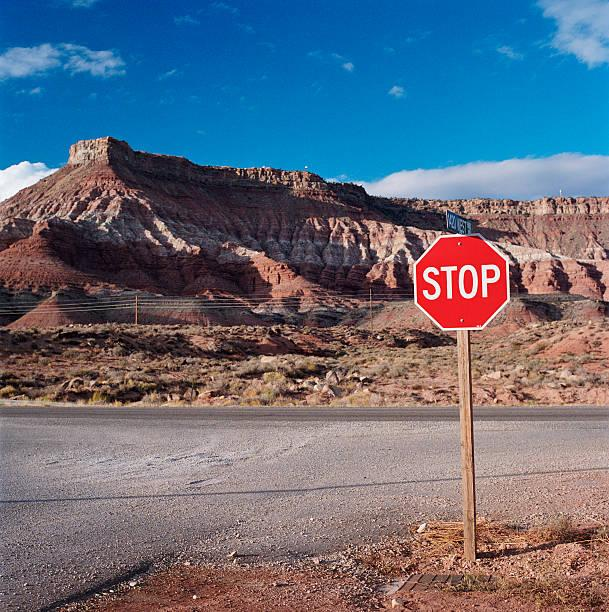Pole: (456, 330, 478, 556)
Sign: (415, 237, 510, 331)
